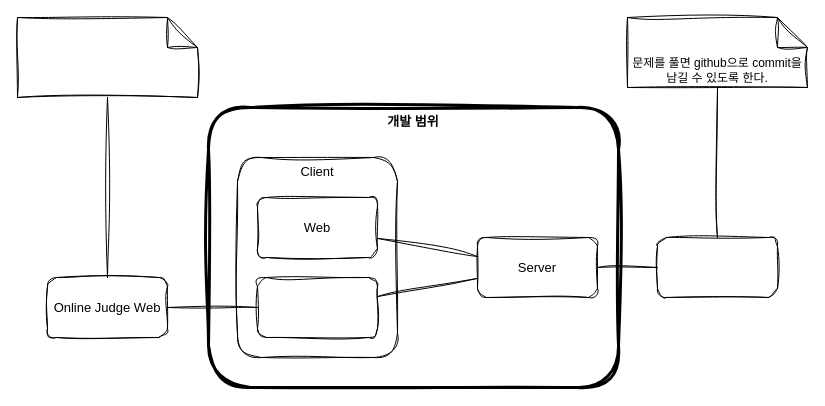
Some shapes in this 825 by 406 pixel diagram are drawn without their labels. The centre of each missing label's shape, as x and y in pixels:
Chrome Extension: the point at 317,307
Github: the point at 717,267
현재는 백준 사이트를 의미하나, 다른 online judge 사이트로 확장할 수 있도록 고려한다.: the point at 107,57
